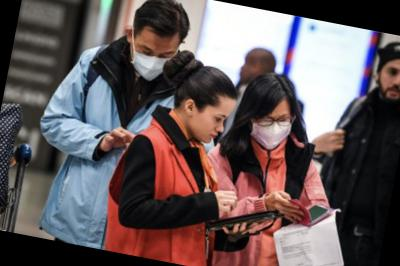with_mask: (247, 105, 297, 156), (126, 40, 177, 89)
without_mask: (190, 105, 234, 149), (374, 63, 400, 105)
